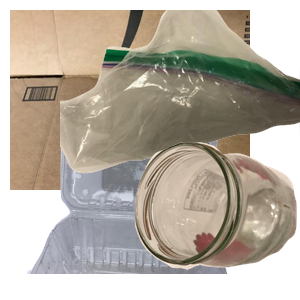cardboard: (10, 10, 250, 190)
glass: (132, 139, 300, 300)
plastic: (25, 120, 245, 300)
trash: (60, 10, 300, 176)
